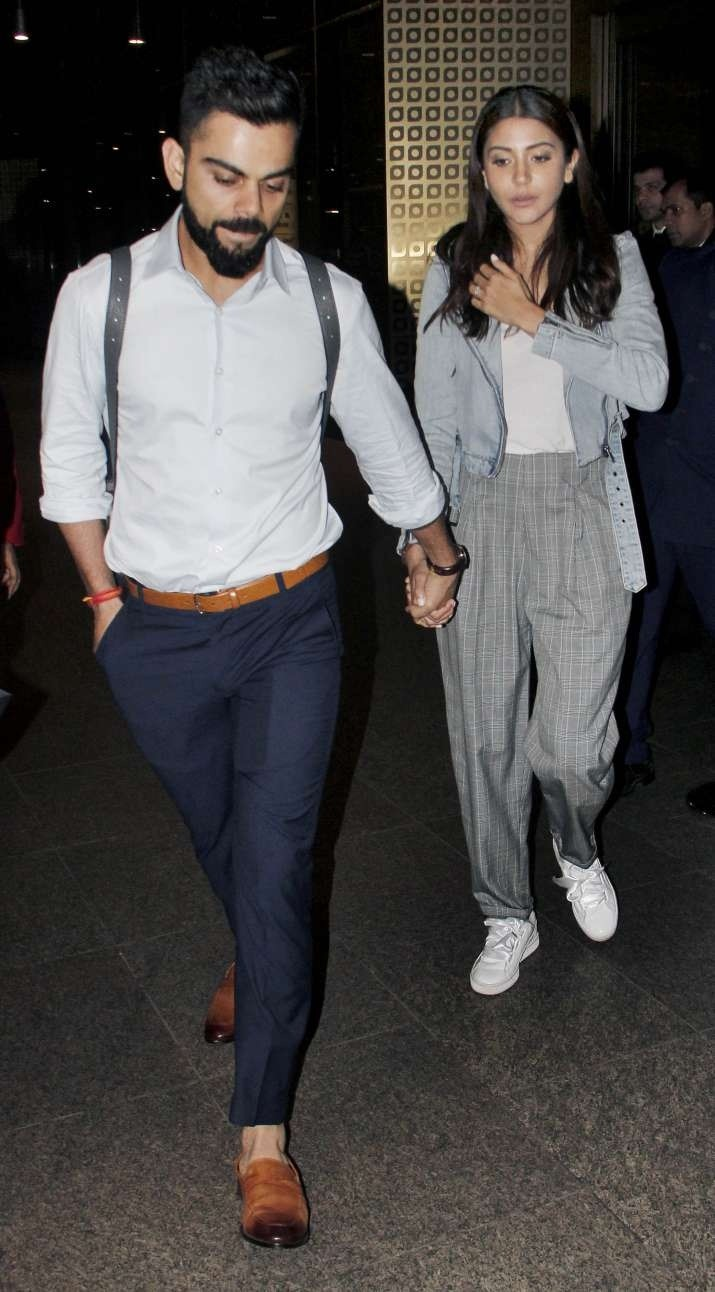face_no_mask: (156, 56, 303, 281), (471, 98, 585, 231)
